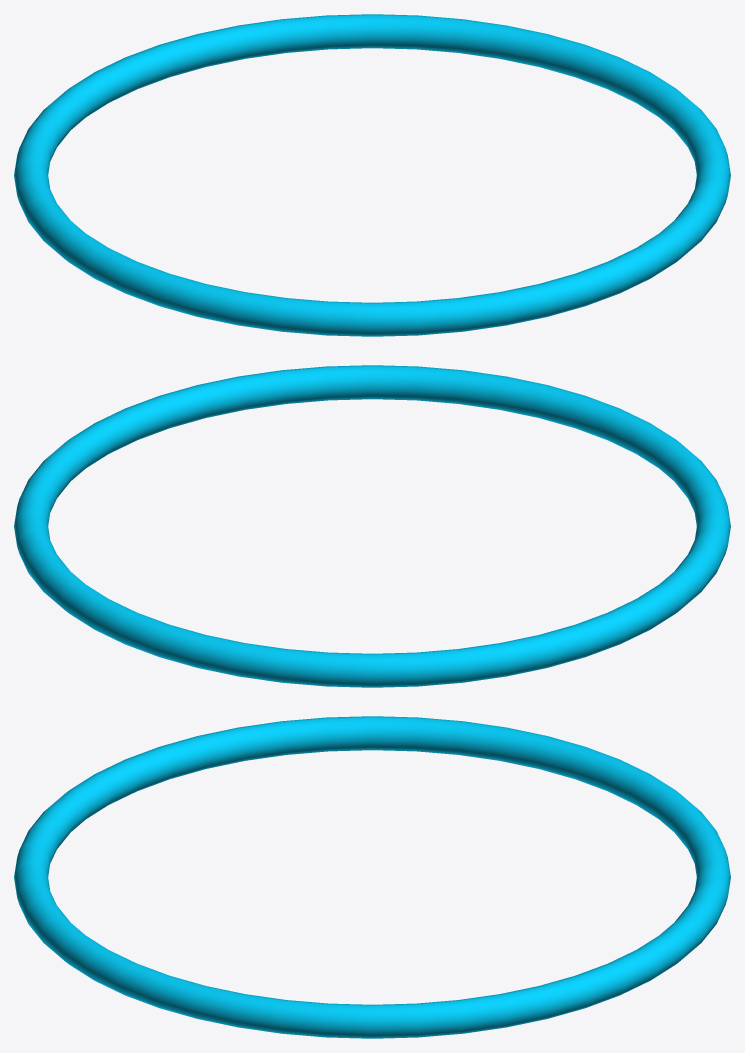
Rendered from Кольцо.fbx.
3 views of the same model, one above another, from view 1: azimuth 30°, elevation 25°; view 2: azimuth 150°, elevation 25°; view 3: azimuth 270°, elevation 25° (orthographic).
Visible parts, largest first — view 1: Torus; view 2: Torus; view 3: Torus.
Boxes of the visible parts, <box> form: Torus: <box>14,14,730,336</box>; Torus: <box>14,365,730,687</box>; Torus: <box>14,716,730,1038</box>.
Bounding box in the file's own units: 210 × 10 × 210.
